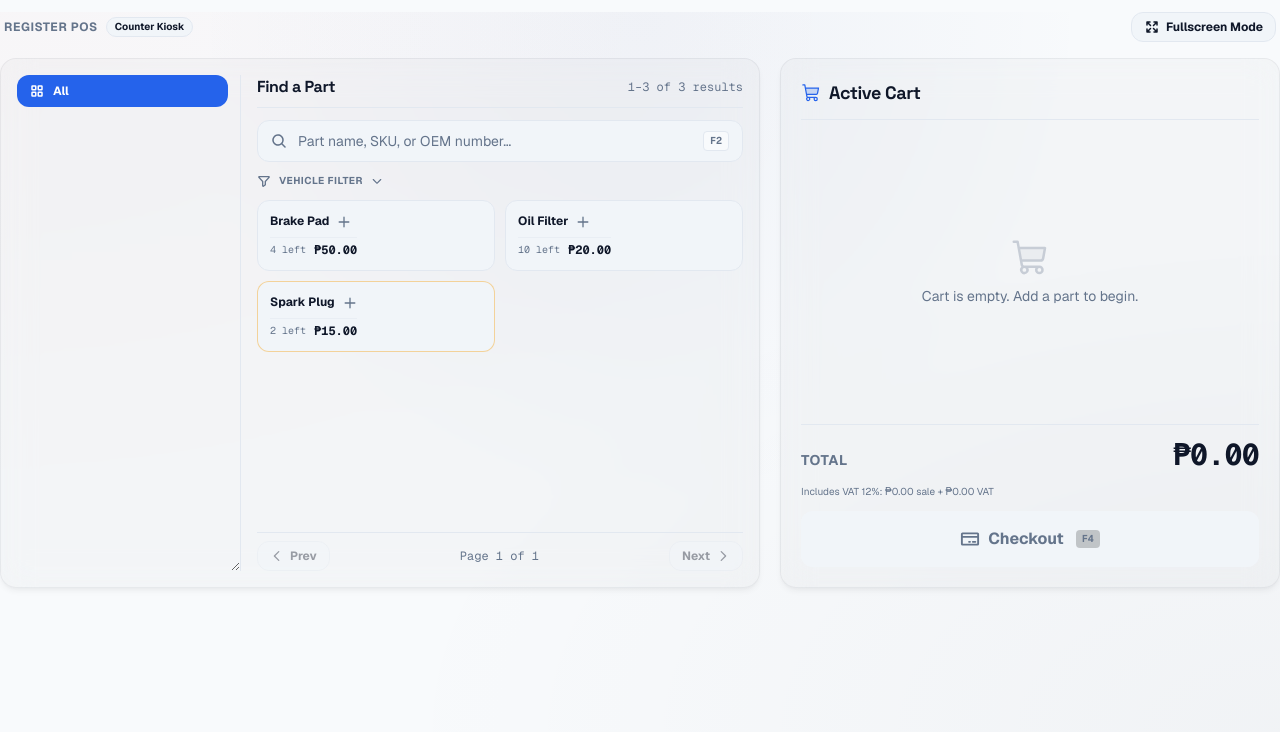
it: TransactionPOS Integration Tests › Step 7: Partial stock
The image size is (1280, 732).
Click the button with aria-label "Add Spark Plug".
click(376, 316)  # box [257, 281, 495, 352]
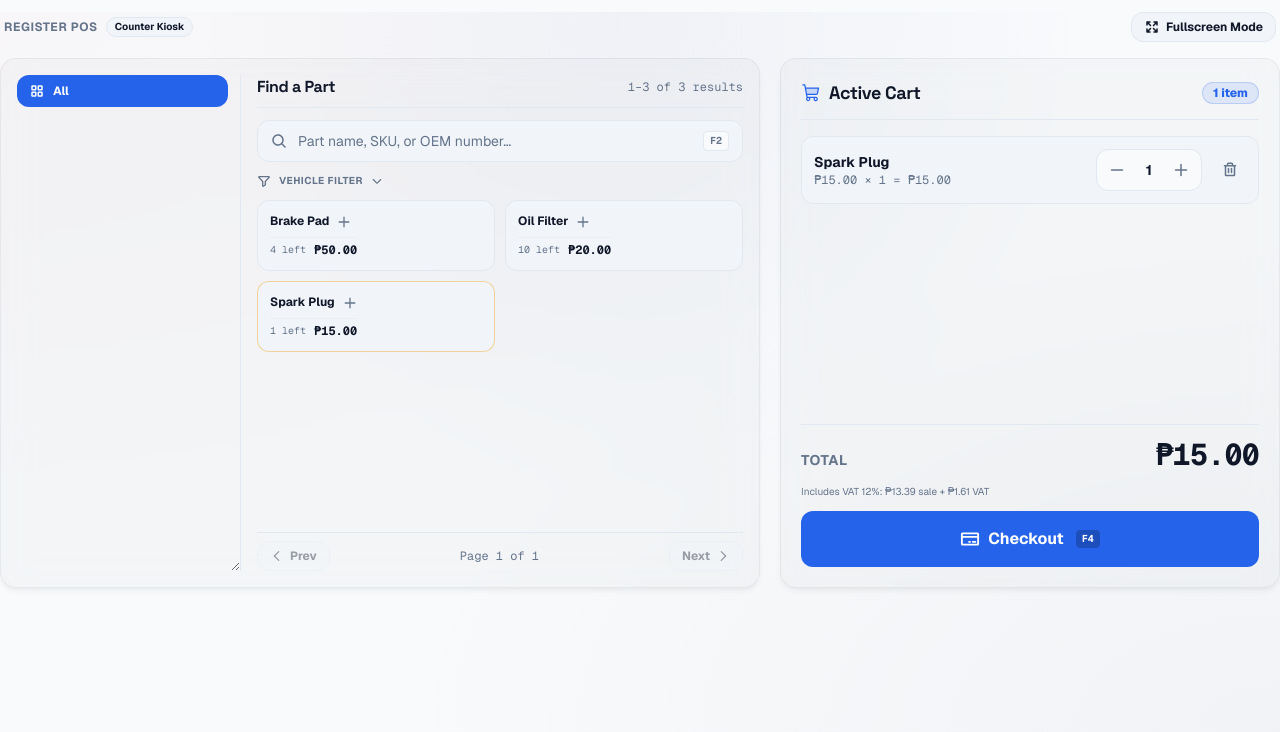
Click the button named "Increase quantity of Spark Plug".
click(1181, 170)  # box [1165, 154, 1197, 186]
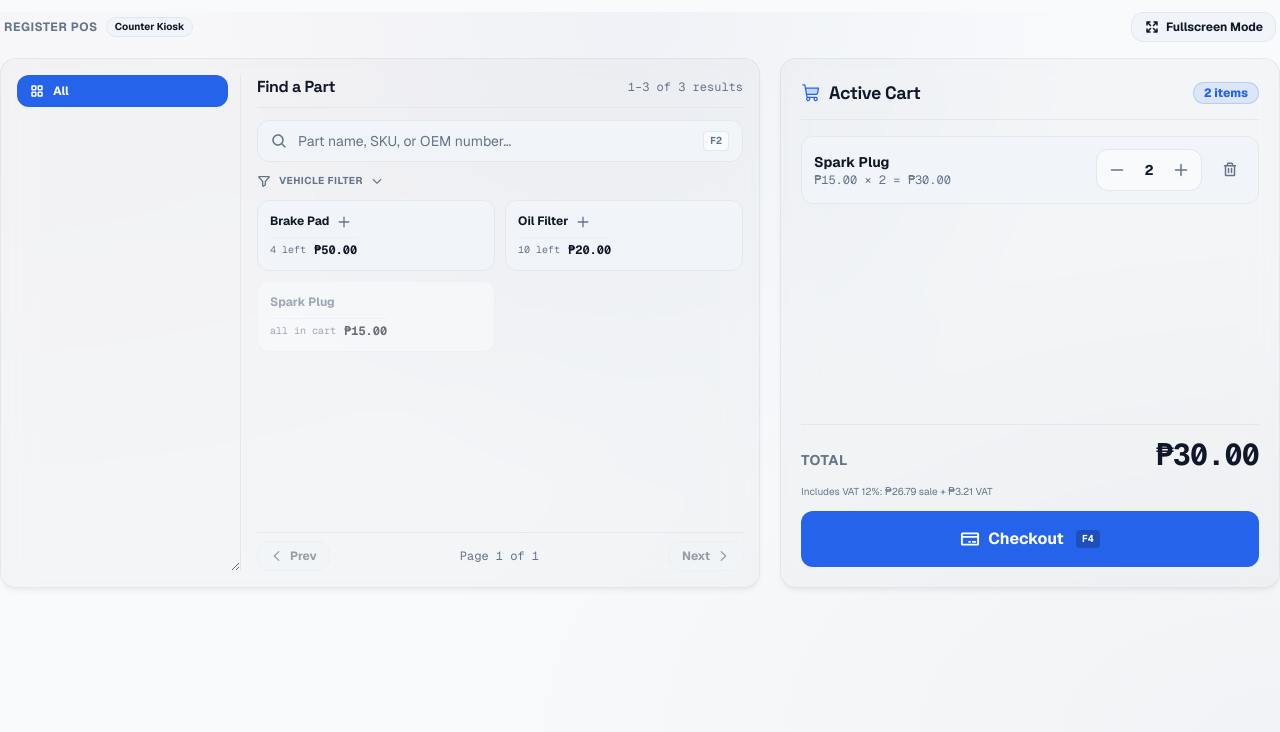
Click the button named "Increase quantity of Spark Plug".
click(1181, 170)  # box [1165, 154, 1197, 186]
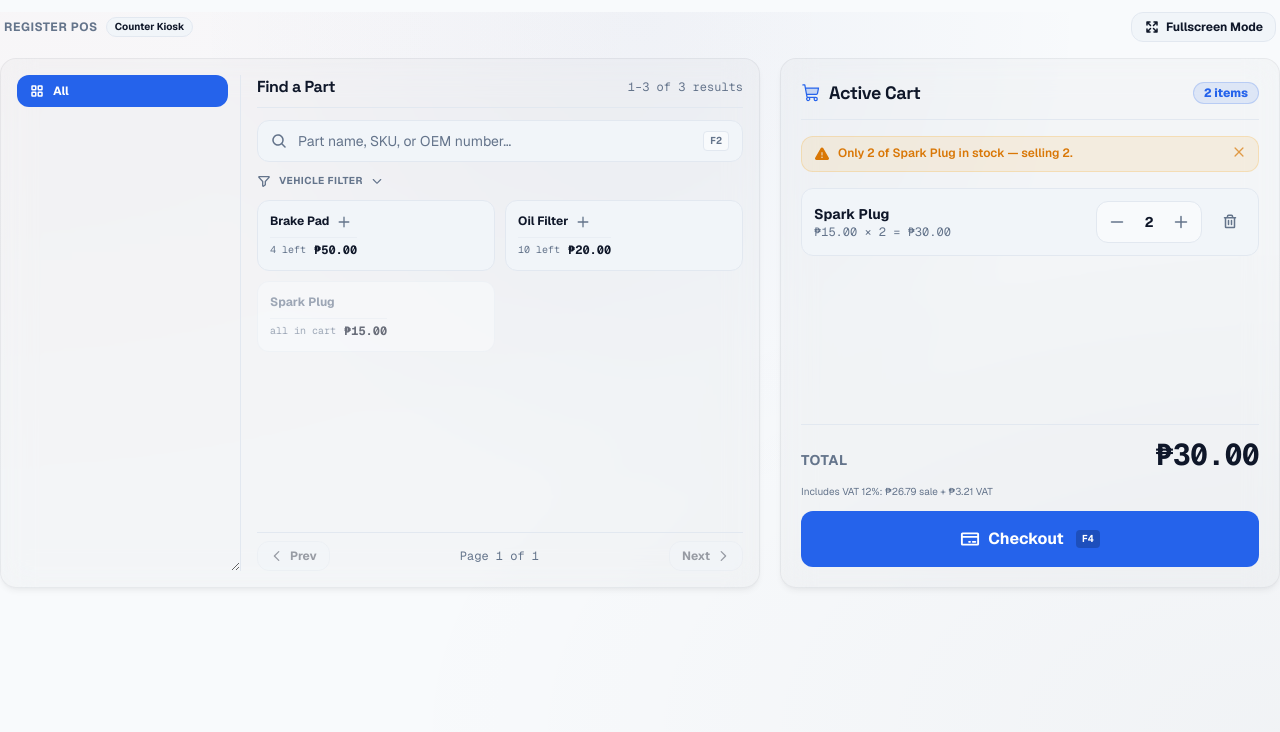
expect the text "Only 2 of Spark Plug in stock — selling 2." is shown: met, box [838, 145, 1073, 161]
